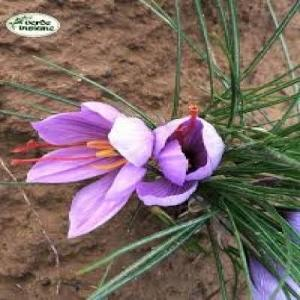Saffron: (25, 100, 153, 236), (135, 115, 225, 207)
